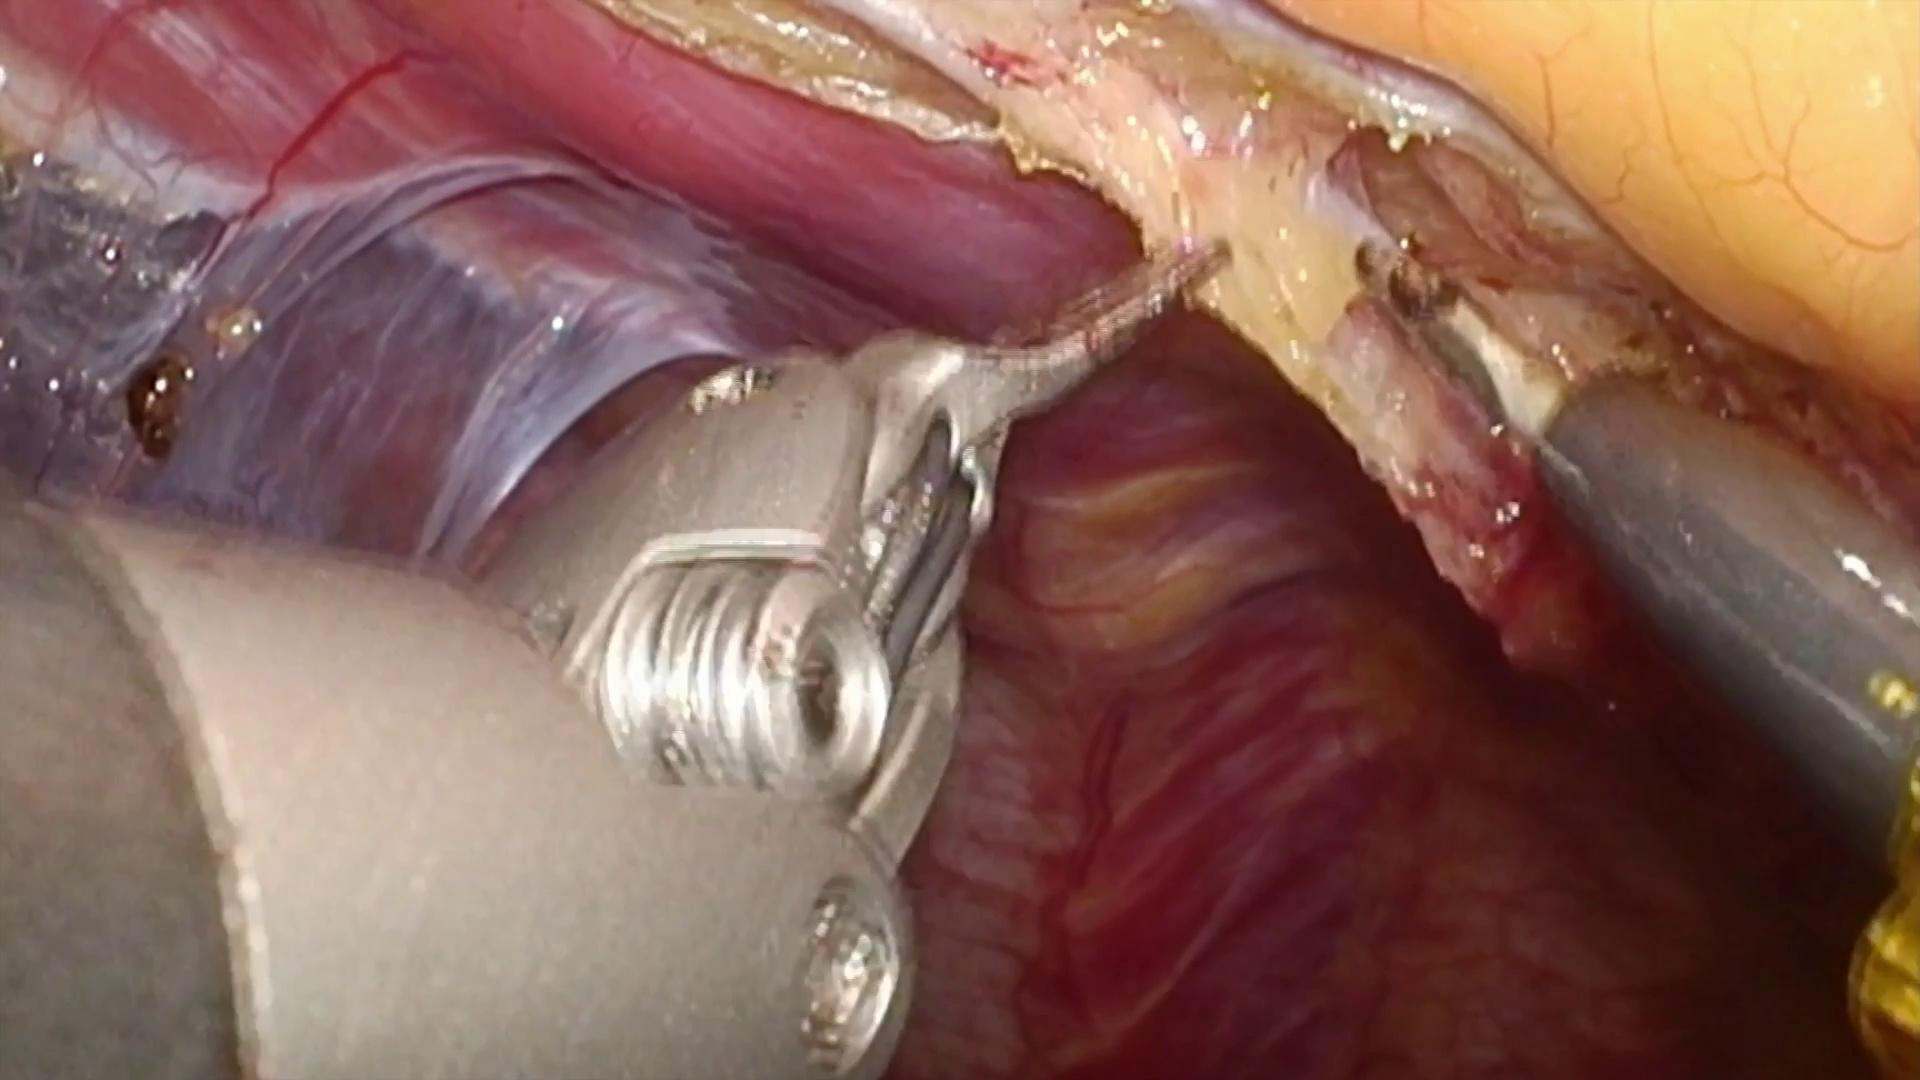Cautery_Spatula: (1354, 232, 1920, 849)
Debakey: (851, 169, 1237, 469)
